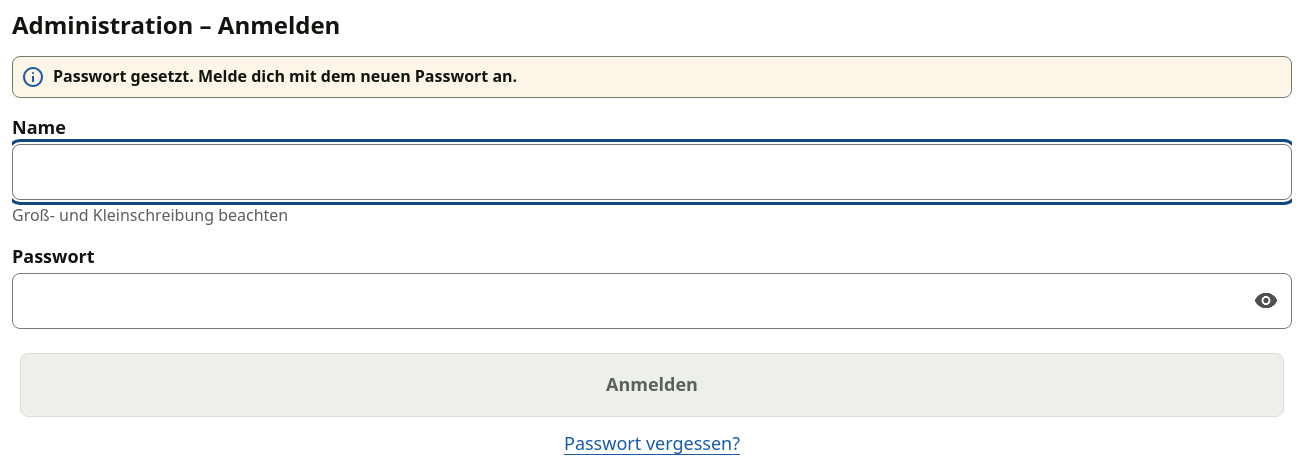
Test: AdminAnmeldung › Hinweis aus der Navigation › verschwindet mit der nächsten Eingabe
Type "B" into the field with test id "admin-name" at {"x": 652, "y": 172}, box [12,144,1292,200]
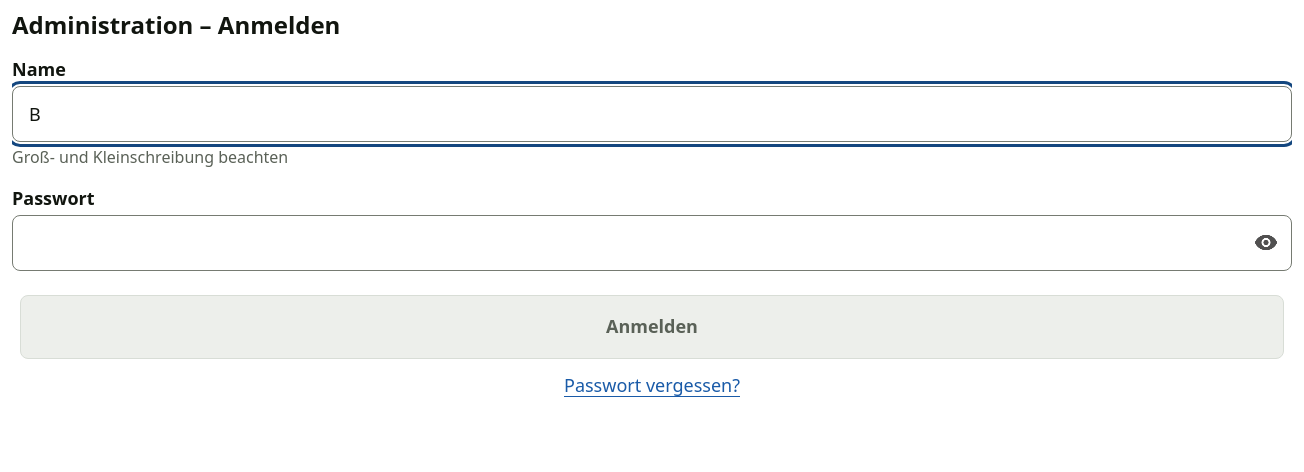
Result: the message with test id "admin-hinweis" is gone
